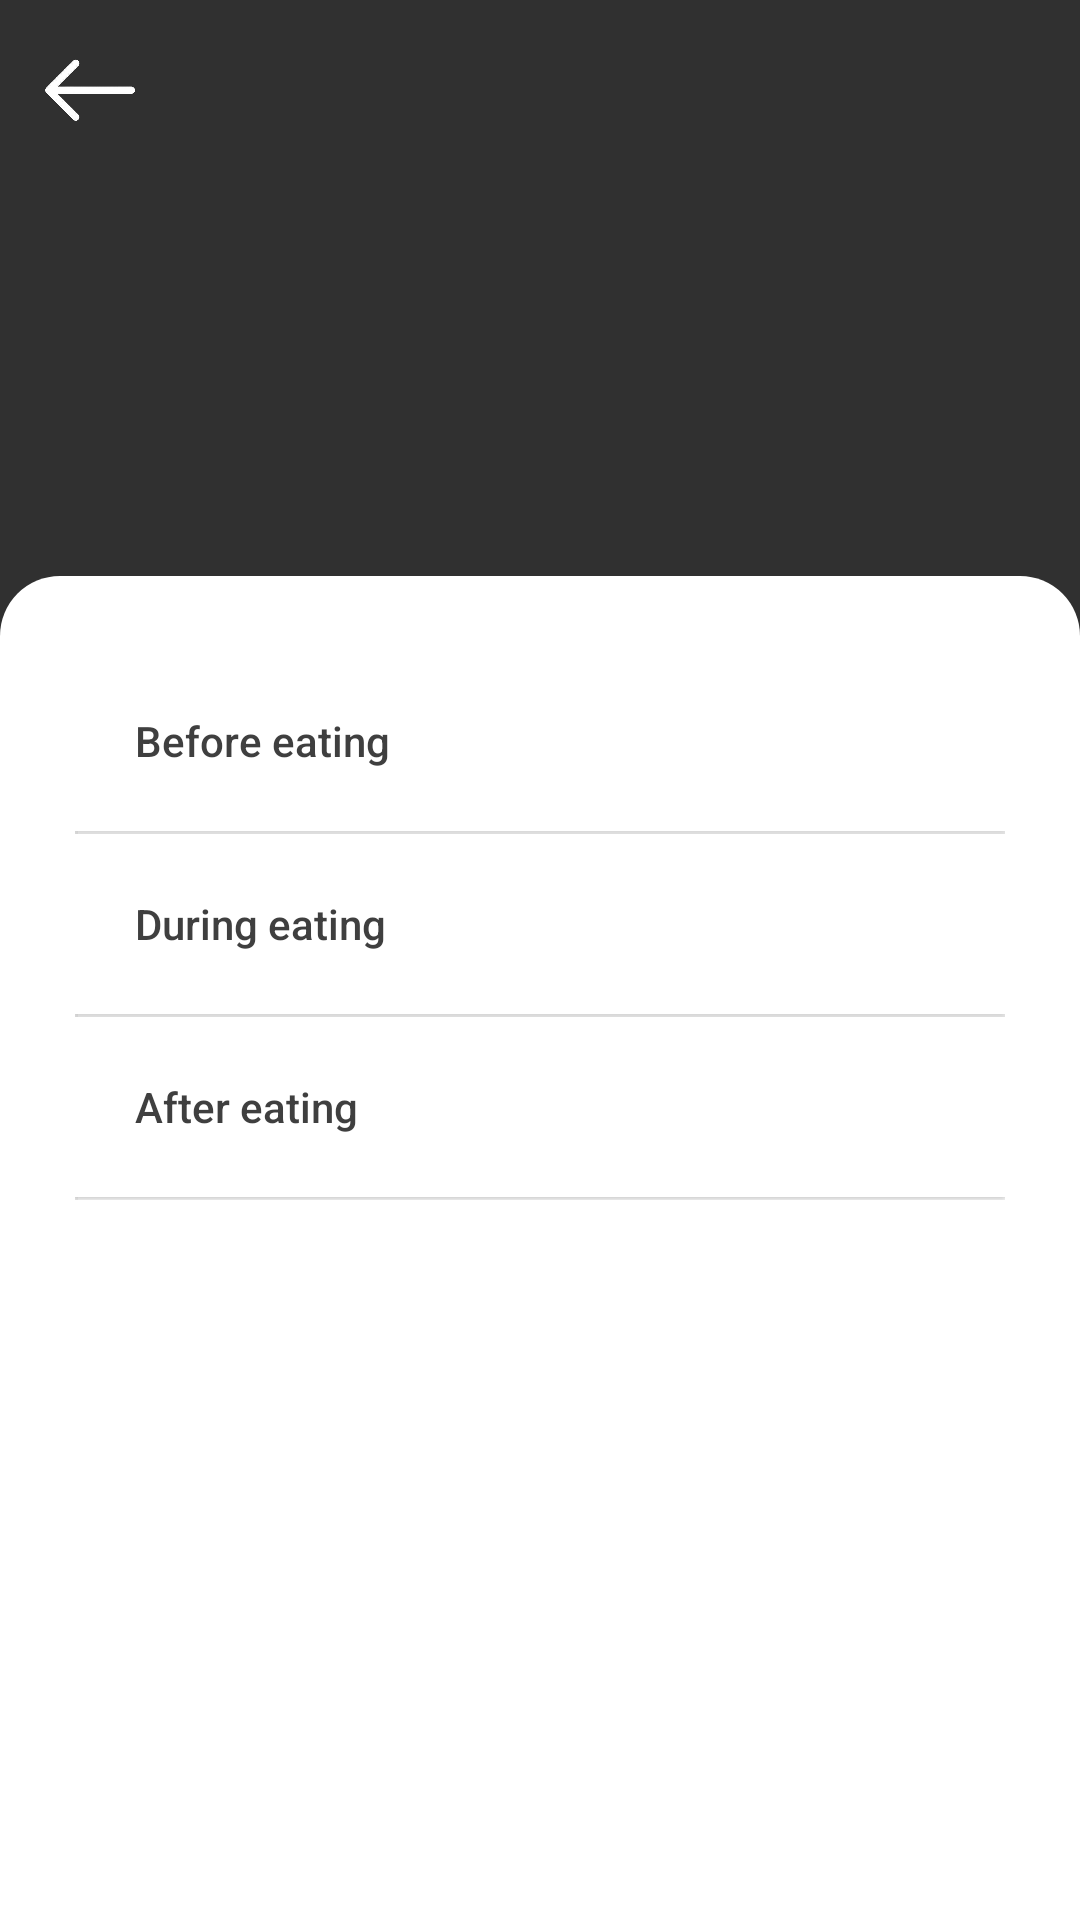

Point at icon controls on the screen. Image size 1080 × 1920, points as [x,y].
back: [90,90]
